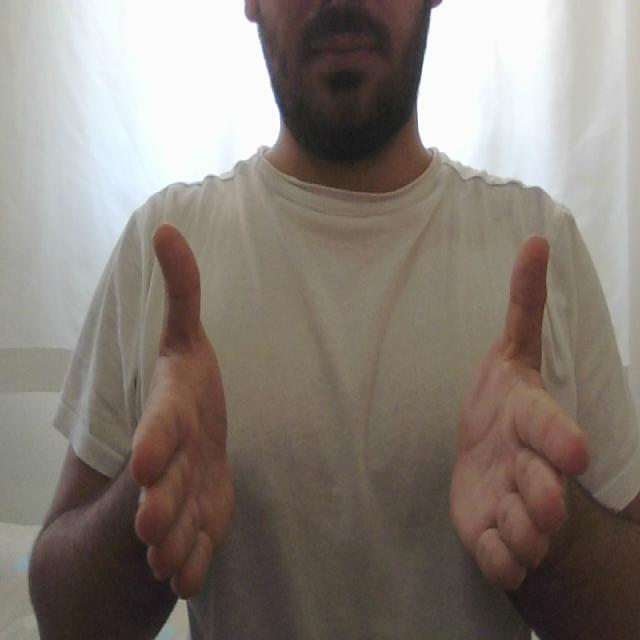Nasil: (127, 212, 594, 612)
